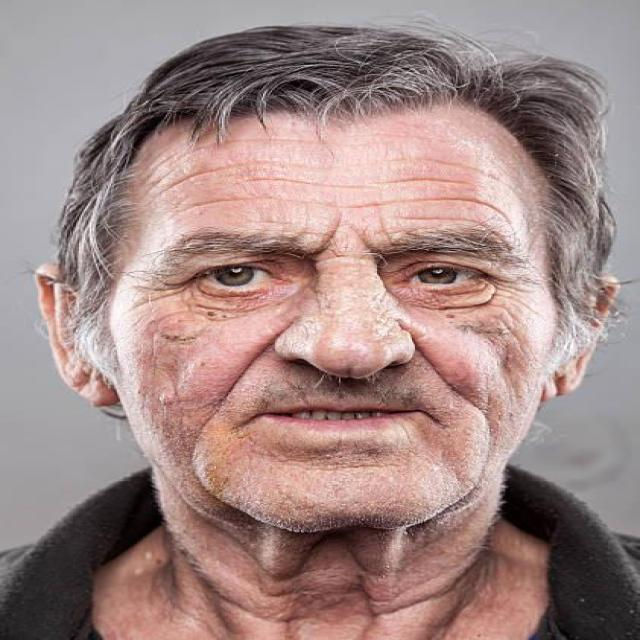Wrinkles: (145, 155, 534, 208), (164, 196, 515, 252), (143, 132, 472, 188), (485, 292, 547, 356), (237, 176, 494, 190), (120, 287, 185, 316)
